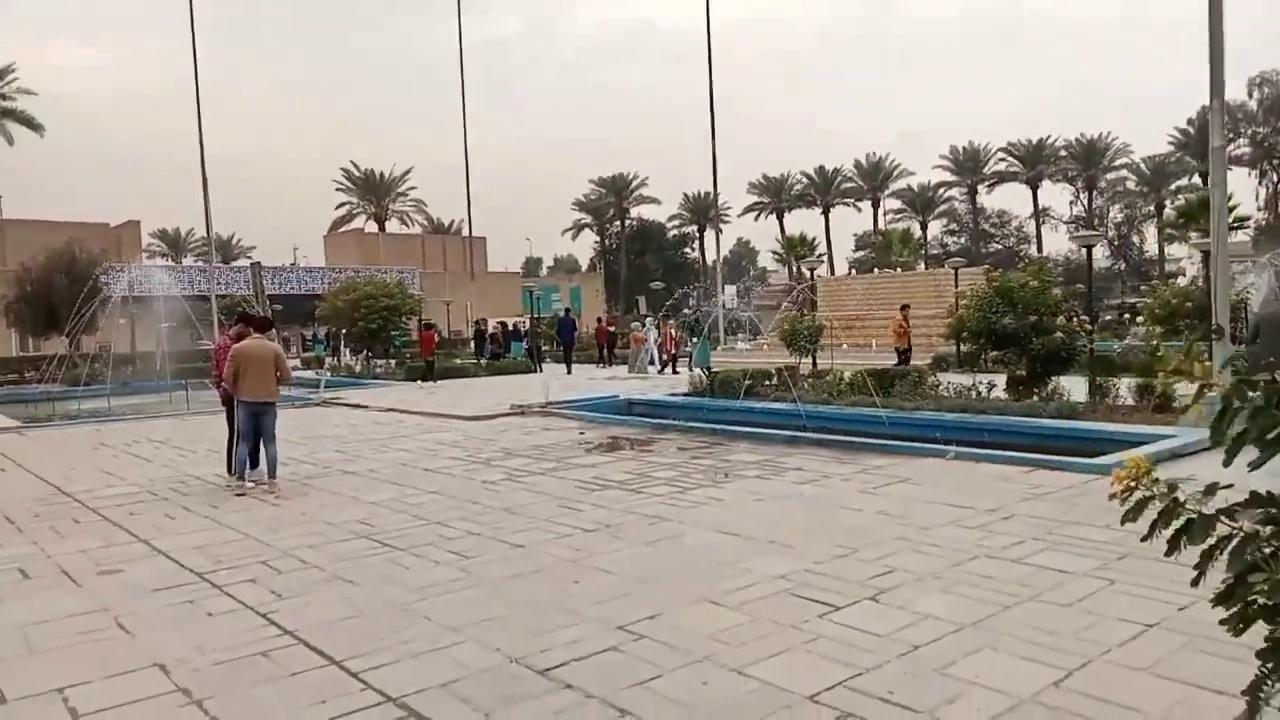fountain: (514, 275, 1232, 474), (1, 258, 423, 424), (512, 383, 1228, 475)
person: (221, 315, 292, 495), (210, 311, 257, 479), (555, 306, 578, 374), (889, 303, 912, 366), (418, 321, 438, 382), (594, 316, 608, 368)
tree: (1106, 349, 1279, 718), (940, 255, 1093, 401), (1166, 66, 1279, 227), (1052, 129, 1132, 330), (587, 170, 660, 316), (313, 273, 425, 360), (987, 133, 1064, 255), (931, 138, 1002, 263), (1160, 186, 1251, 283), (1128, 151, 1192, 283), (737, 169, 811, 282), (141, 224, 204, 349), (326, 159, 430, 234), (560, 190, 622, 314), (795, 163, 863, 276), (665, 188, 731, 304), (1057, 129, 1132, 231), (1165, 99, 1247, 188), (192, 230, 255, 341), (889, 178, 957, 269), (845, 150, 915, 238), (620, 215, 680, 314), (1241, 66, 1279, 222), (0, 59, 46, 146), (313, 278, 362, 359), (1165, 104, 1209, 186), (850, 226, 921, 272), (776, 310, 824, 371), (768, 228, 821, 283), (141, 224, 203, 264), (192, 230, 255, 264), (725, 235, 760, 282), (546, 252, 581, 279), (421, 215, 464, 235)
